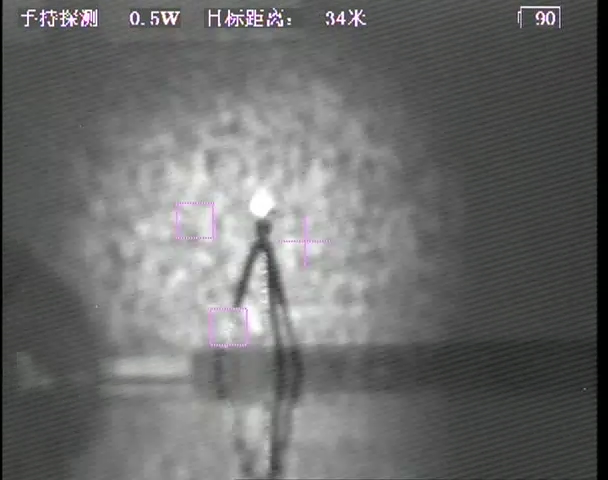my: (247, 193, 274, 216)
